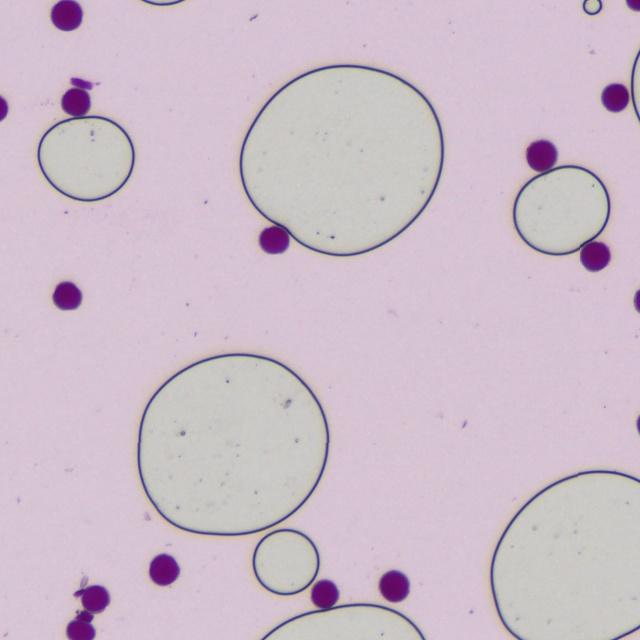viable: (526, 140, 556, 171), (51, 0, 82, 30), (379, 570, 408, 601), (580, 241, 610, 270), (150, 554, 179, 584), (53, 282, 81, 309), (62, 88, 90, 115), (82, 585, 109, 612), (260, 227, 288, 253), (311, 580, 337, 607), (602, 84, 628, 111), (66, 620, 94, 639), (0, 96, 8, 120), (627, 0, 639, 10), (634, 289, 639, 311)
